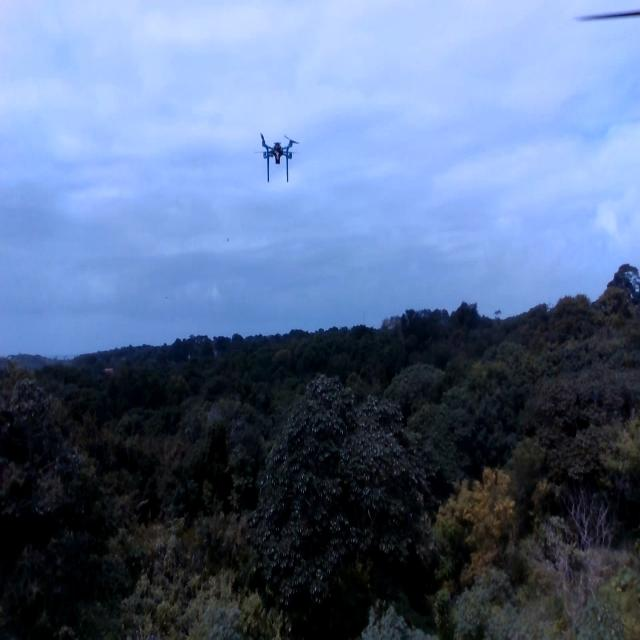-uav-: (251, 111, 307, 210)
